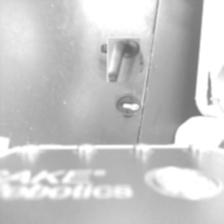Door Handle: (104, 40, 143, 79)
Lock: (116, 93, 140, 117)
